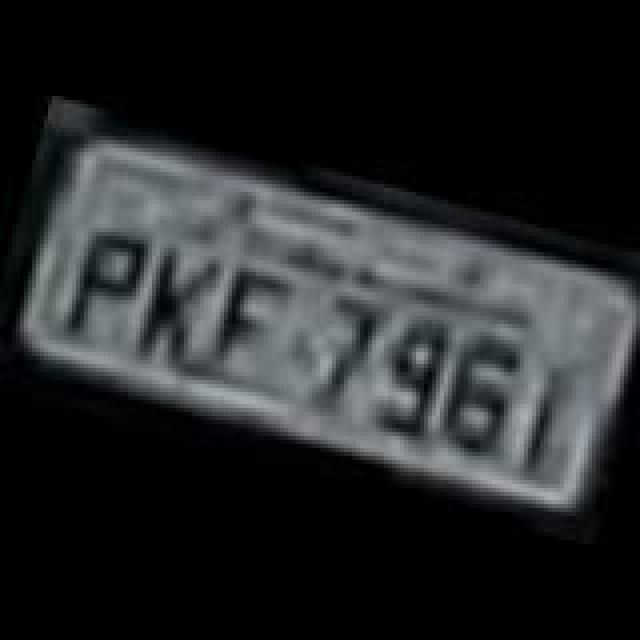1: (510, 354, 578, 478)
6: (428, 328, 532, 464)
7: (294, 284, 394, 420)
9: (362, 308, 454, 444)
F: (202, 262, 294, 394)
K: (130, 238, 222, 370)
P: (58, 220, 150, 348)
